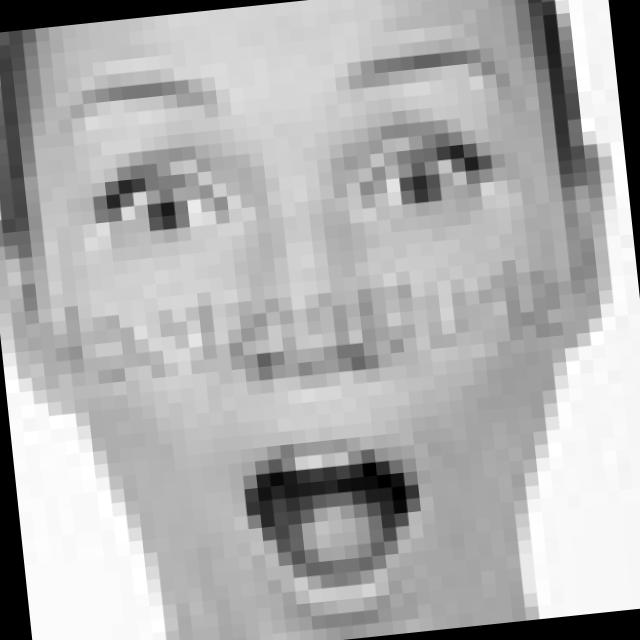surprise: (51, 25, 563, 640)
